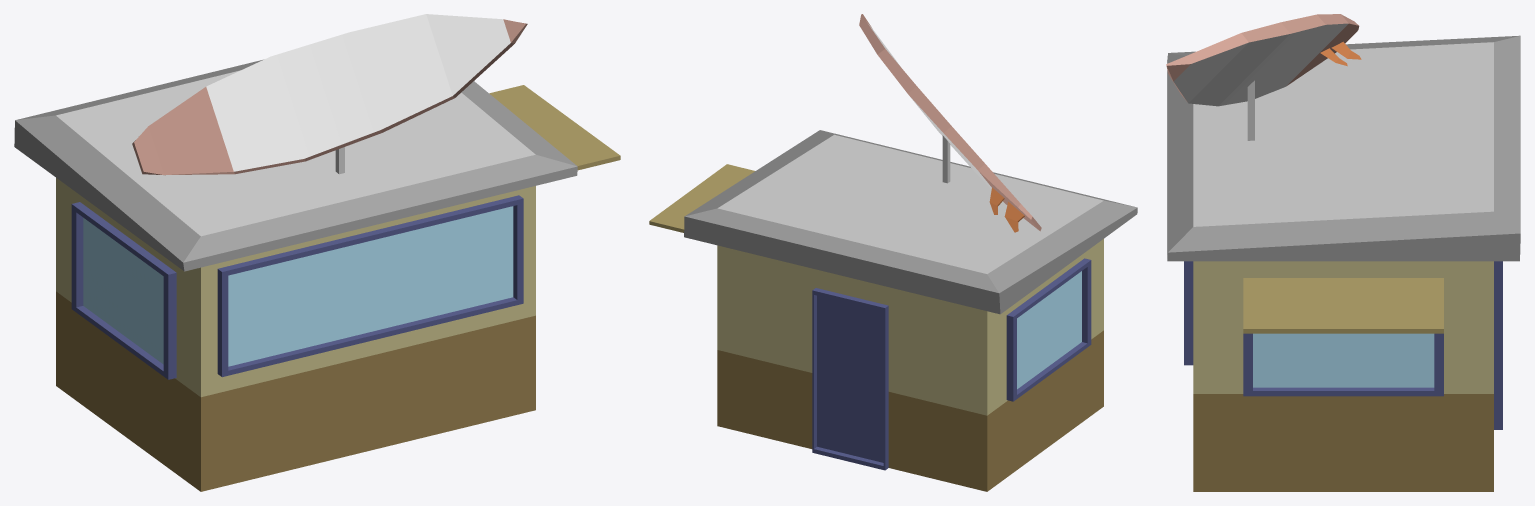
Rendered from SurfShop.fbx.
3 views of the same model, side by side, from view 1: azimuth 30°, elevation 25°; view 2: azimuth 150°, elevation 25°; view 3: azimuth 270°, elevation 25° (orthographic). The views are drawn at different scales.
Visible parts, largest first — view 1: Surf_Shop, Surf_Shop_Window; view 2: Surf_Shop, Surf_Shop_Window; view 3: Surf_Shop, Surf_Shop_Window.
Boxes of the visible parts, <box> form: Surf_Shop: <box>14,14,577,491</box>; Surf_Shop_Window: <box>489,85,620,170</box>; Surf_Shop: <box>684,14,1137,491</box>; Surf_Shop_Window: <box>649,164,754,232</box>; Surf_Shop: <box>1166,14,1520,491</box>; Surf_Shop_Window: <box>1243,278,1443,333</box>.
Size of the model in its own units: 566 by 459 by 354.
